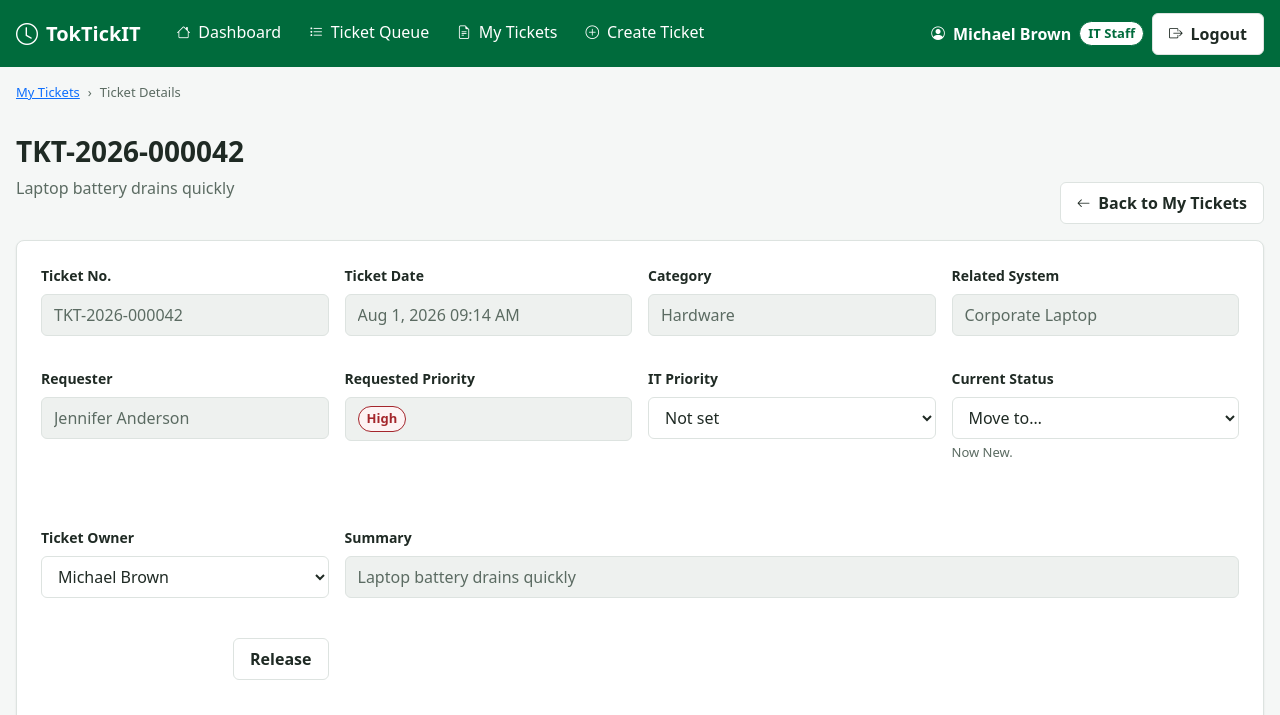
UI-15 claim, reassign and release › offers the eligible owners and a Release on an assigned ticket
Check: the button "Claim" is not shown
Select "Wanida Thongchai" in the dropdown labelled "Ticket Owner" at (185, 577), box top-left (41, 556), bottom-right (328, 598)
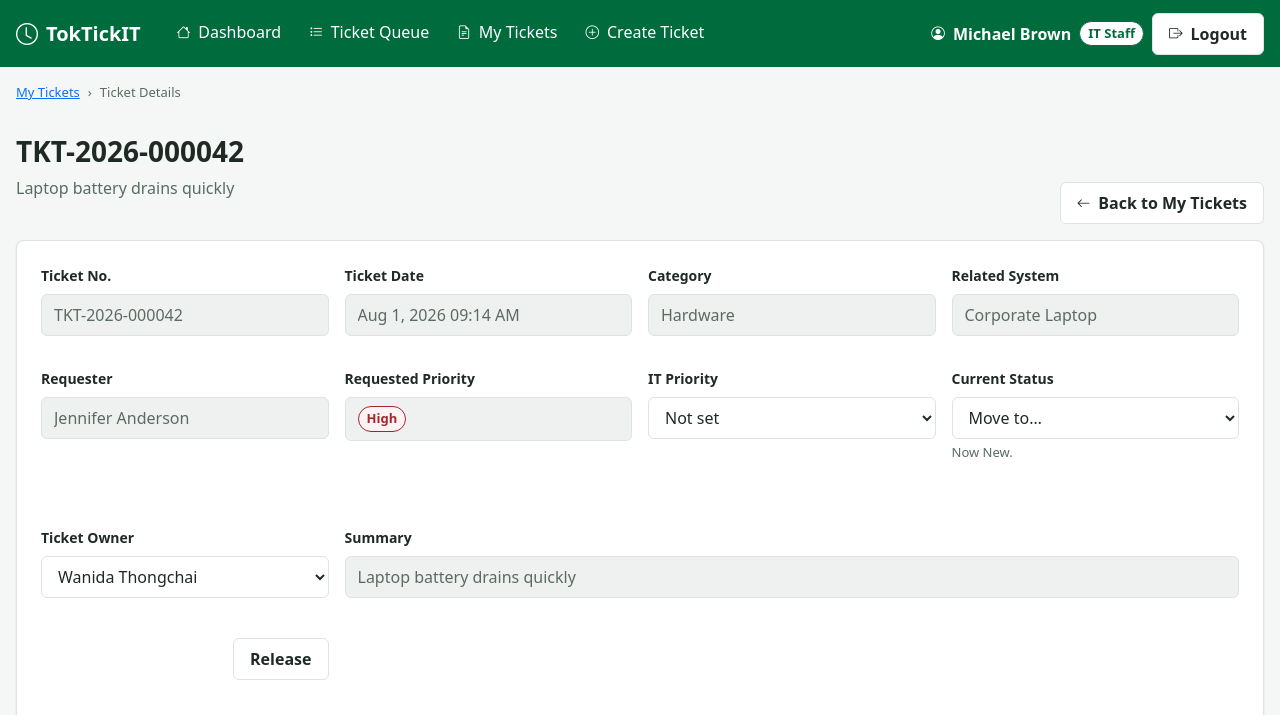
Click the button "Release".
click(281, 659)  # box top-left (233, 638), bottom-right (328, 680)
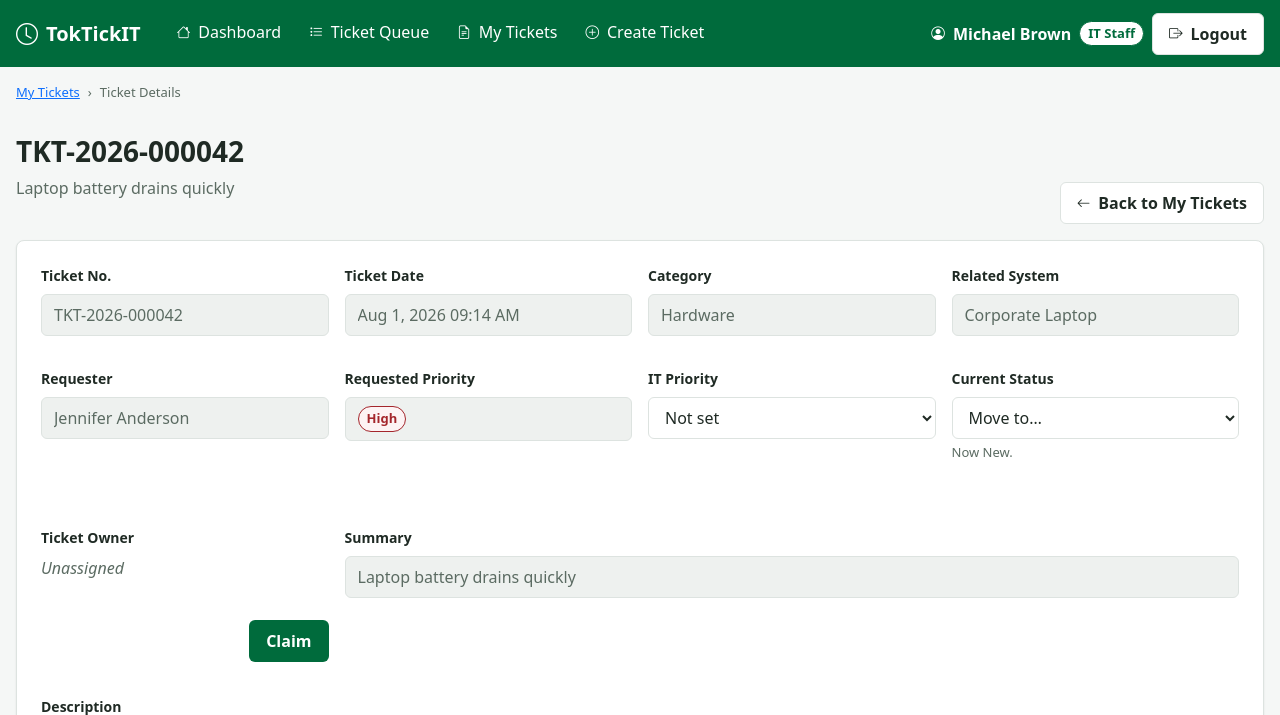
Check: the text "Unassigned" is shown, box top-left (41, 557), bottom-right (124, 579)
